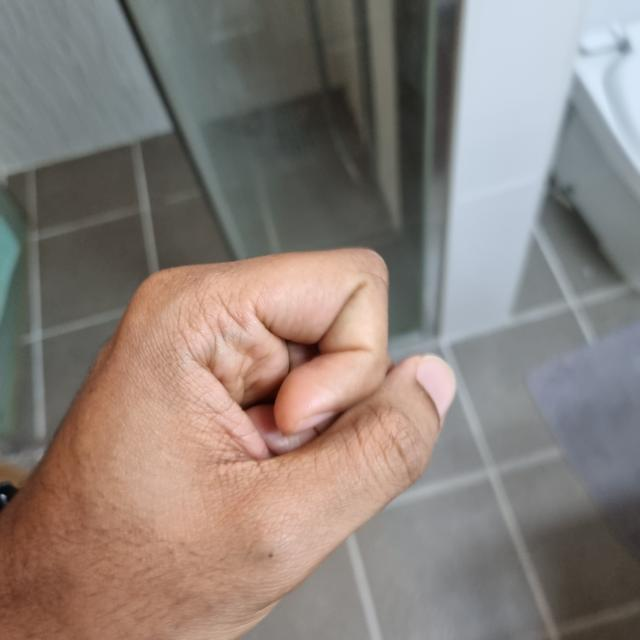Rock: (0, 246, 452, 639)
